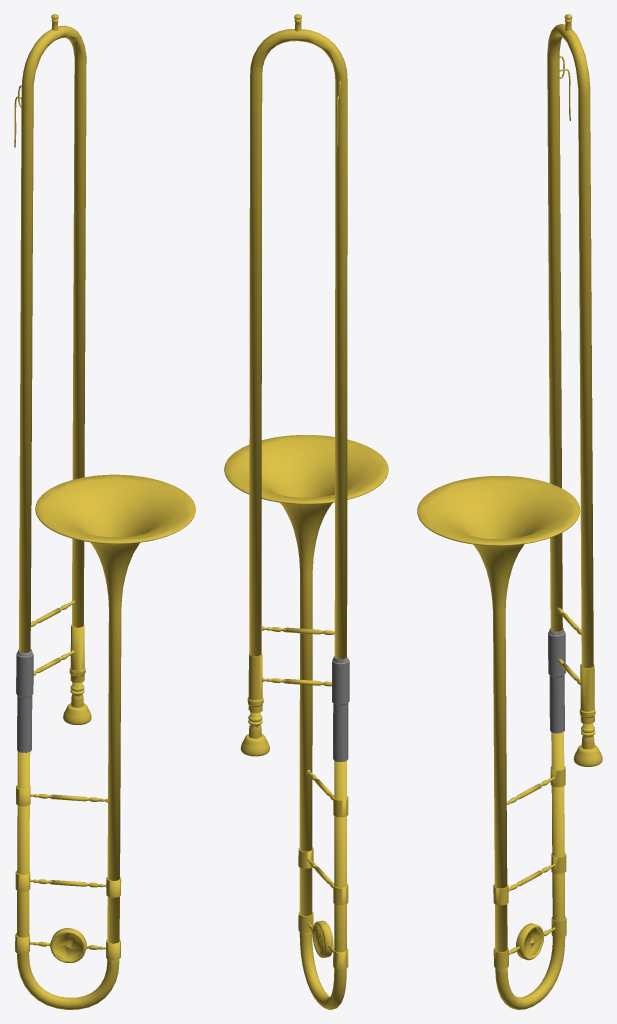
File: trombone_cutdown_nomod.obj
3 renders of one model, left to right at view 1: azimuth 30°, elevation 25°; view 2: azimuth 150°, elevation 25°; view 3: azimuth 270°, elevation 25°, orthographic. The views are drawn at different scales.
Parts seen in each view (by area): view 1: Loft02, Line03, Loft01, Shape02, Shape07, Shape04, Shape06, Line01, Shape05; view 2: Loft02, Line03, Loft01, Shape07, Shape02, Shape06, Line01, Shape04, Shape05; view 3: Loft02, Line03, Loft01, Shape07, Shape02, Shape06, Line01, Shape04, Shape05.
Part boxes in pixels (x1,y1,x2,y2): Loft02: (14, 14, 86, 652); Line03: (35, 474, 195, 943); Loft01: (17, 751, 119, 1009); Shape02: (15, 928, 120, 962); Shape07: (16, 649, 33, 752); Shape04: (15, 870, 121, 897); Shape06: (69, 624, 85, 682); Line01: (63, 682, 91, 724); Shape05: (16, 785, 107, 806); Loft02: (249, 14, 347, 710); Line03: (224, 435, 388, 915); Loft01: (299, 761, 346, 1009); Shape07: (332, 656, 349, 762); Shape02: (298, 911, 348, 969); Shape06: (247, 653, 263, 713); Line01: (240, 712, 269, 756); Shape04: (298, 847, 348, 905); Shape05: (306, 769, 348, 817); Loft02: (547, 14, 593, 722); Line03: (417, 476, 580, 951); Loft01: (495, 731, 565, 1009); Shape07: (548, 628, 565, 733); Shape02: (493, 916, 566, 968); Shape06: (579, 664, 595, 724); Line01: (573, 723, 602, 766); Shape04: (493, 853, 566, 905); Shape05: (506, 766, 565, 804).
Bounding box in the file's own units: 1.93 × 12.97 × 2.19.
